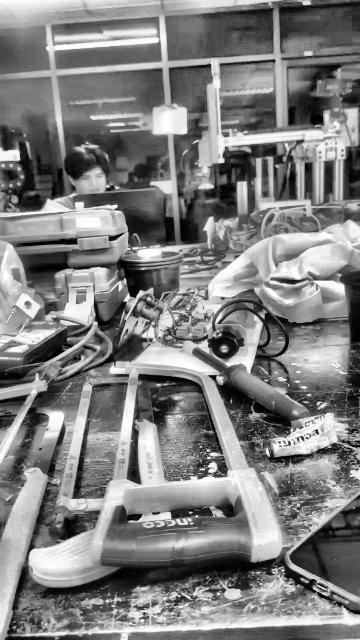pot: (120, 249, 182, 298), (341, 271, 359, 343)
